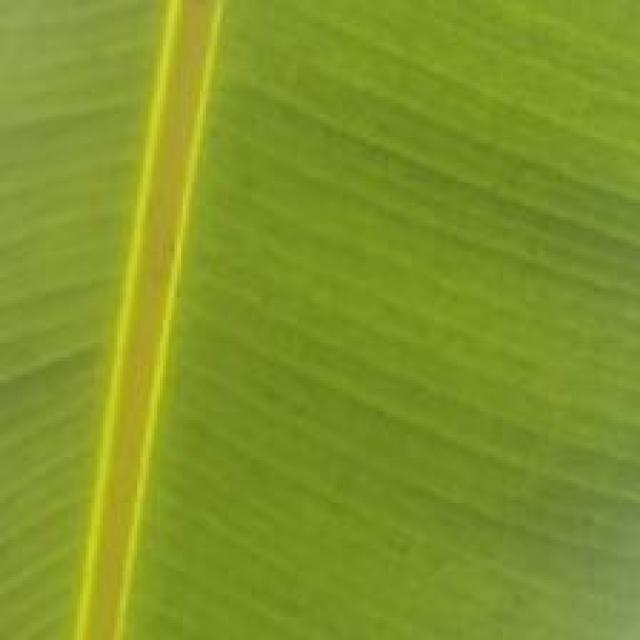Black_leaf_spot: (0, 0, 600, 622)
